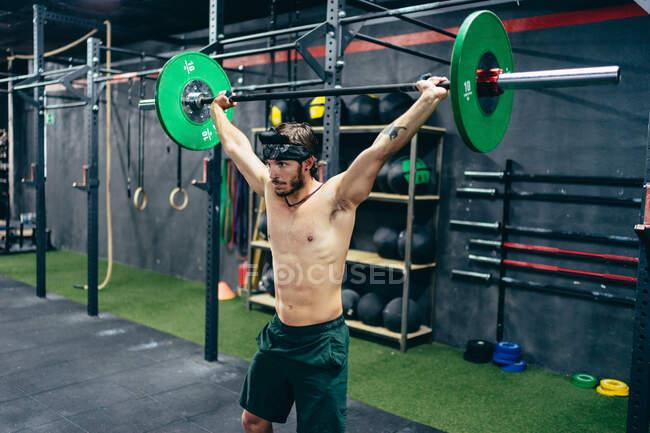Barbell: (600, 62, 626, 93)
